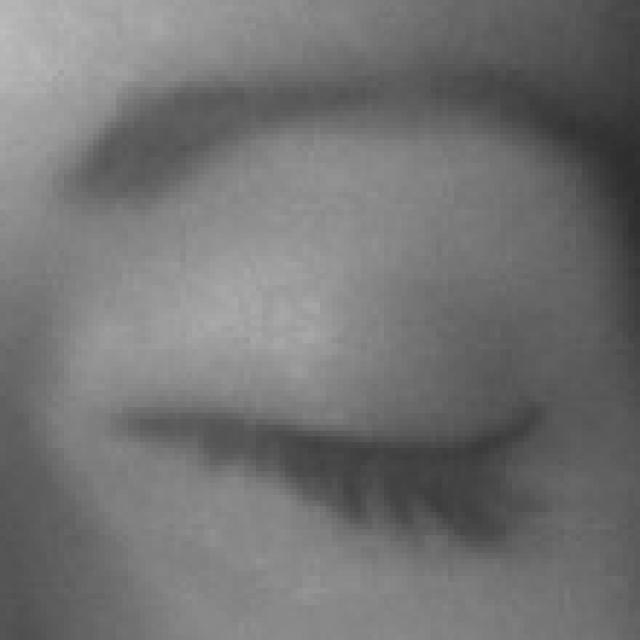Eyeclosed: (202, 270, 547, 638)
